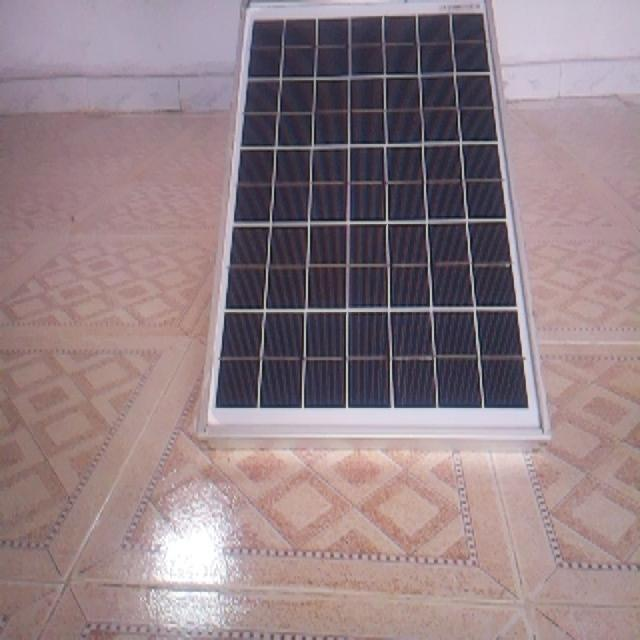Normal Solar Panel: (199, 1, 551, 449)
